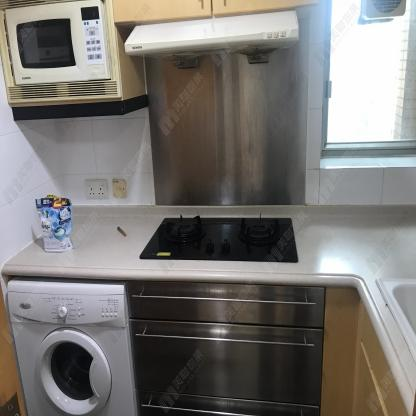Cupboard: (130, 284, 326, 416)
Exhaust Hood: (125, 10, 301, 75), (123, 7, 299, 70)
Microwave: (3, 0, 113, 86), (6, 0, 111, 84)
Stove: (112, 204, 308, 275), (138, 211, 299, 263)
Washing Machine: (8, 279, 138, 416)
